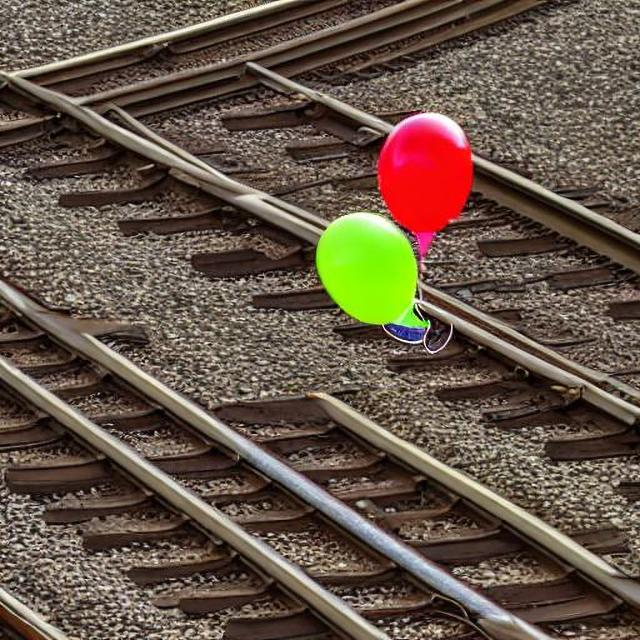balloon: (365, 111, 472, 326), (308, 206, 423, 334)
